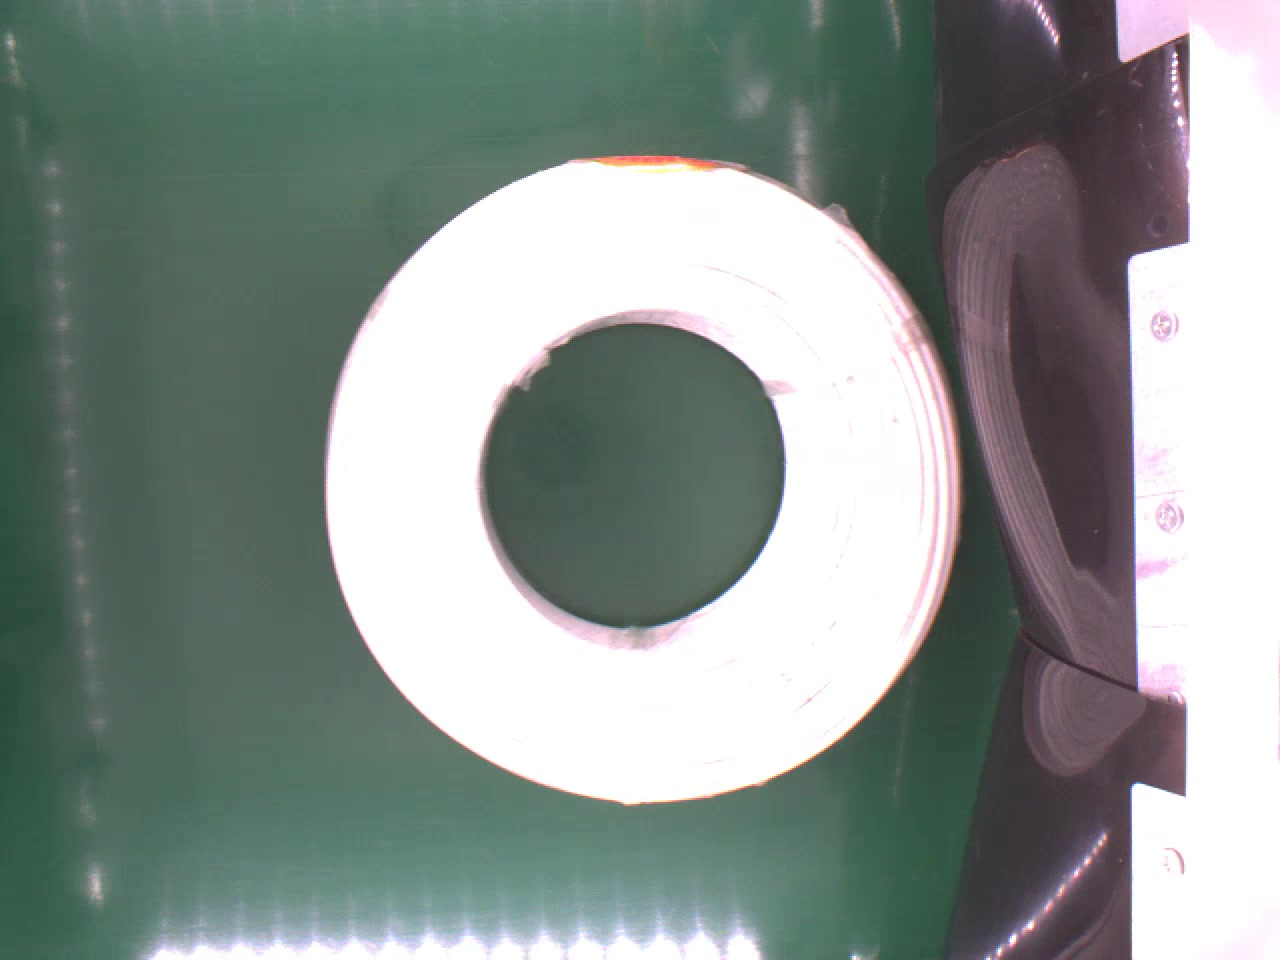white: (322, 151, 959, 800)
